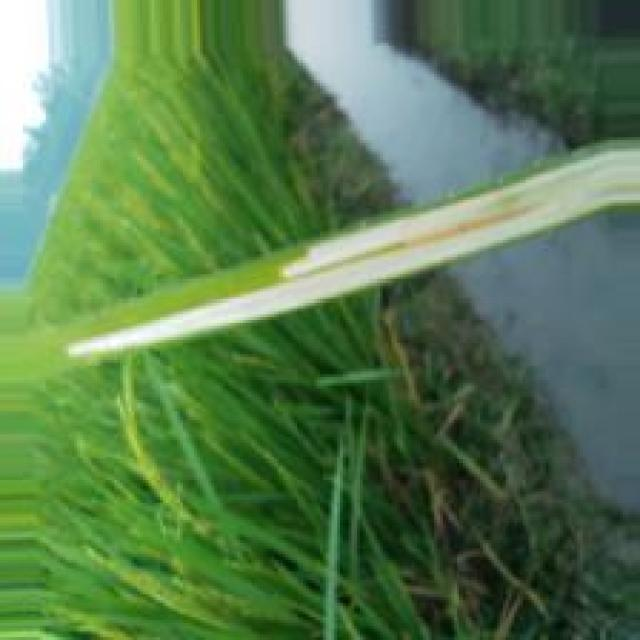Rice_Hispa: (63, 143, 640, 359)
